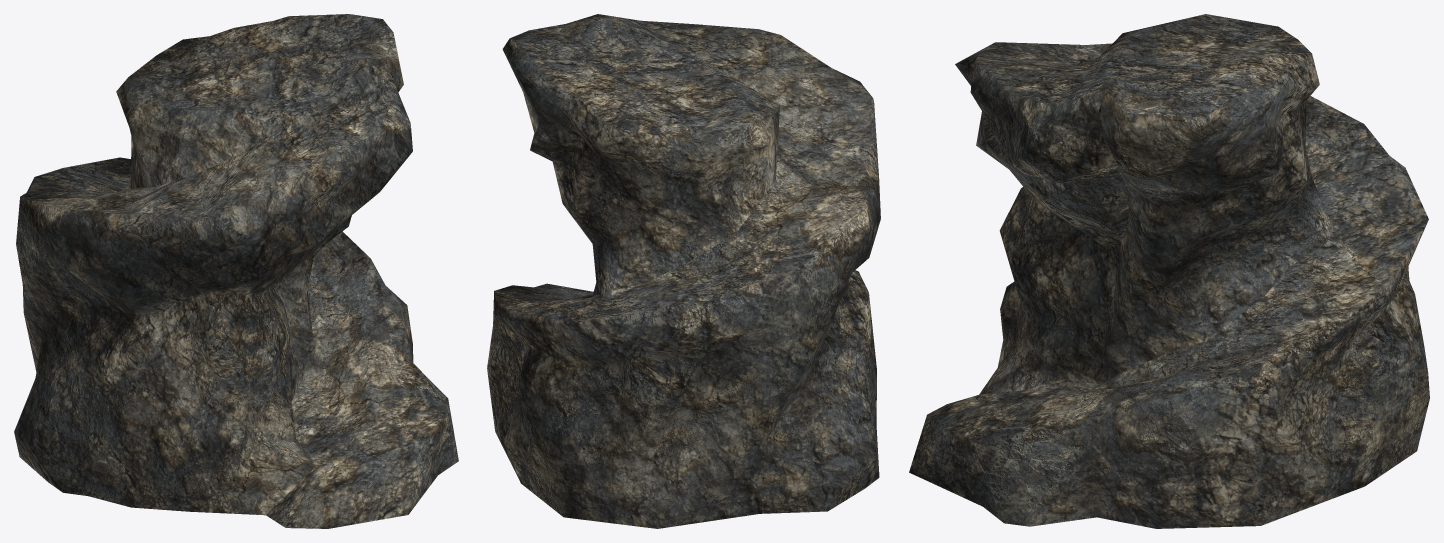
File: Module24B_LOD1.fbx
The picture shows the model from 3 angles, left to right: view 1: azimuth 30°, elevation 25°; view 2: azimuth 150°, elevation 25°; view 3: azimuth 270°, elevation 25°; orthographic projection. The views are drawn at different scales.
Parts seen in each view (by area): view 1: cave_el24B_1000_Group60958; view 2: cave_el24B_1000_Group60958; view 3: cave_el24B_1000_Group60958.
Boxes of the visible parts, box(x1,y1,x2,y2) form: cave_el24B_1000_Group60958: box(14, 14, 458, 528); cave_el24B_1000_Group60958: box(487, 14, 880, 528); cave_el24B_1000_Group60958: box(909, 14, 1429, 528).
Size of the model in its own units: 19.27 by 18.87 by 21.15.
